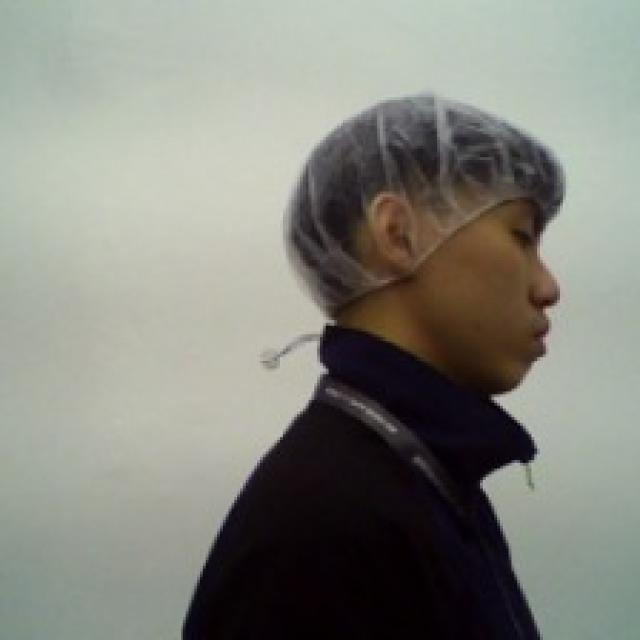gloves: (276, 92, 572, 322)
no_hairnet: (358, 191, 568, 402)
